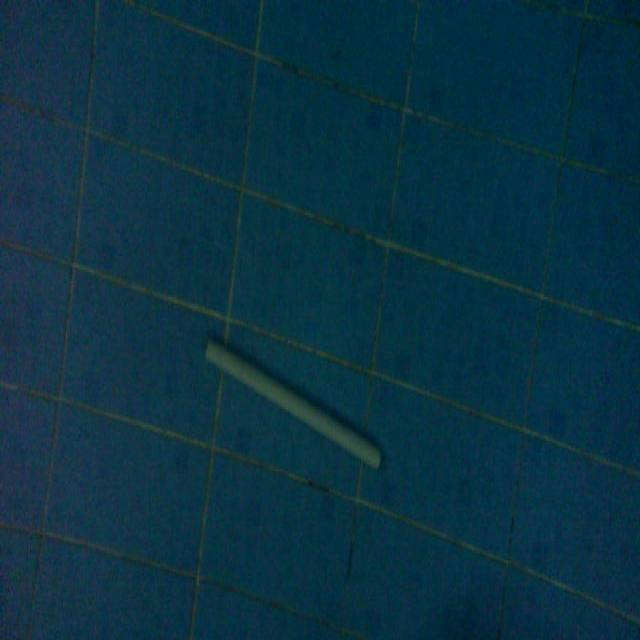Cube: (202, 329, 383, 475)
